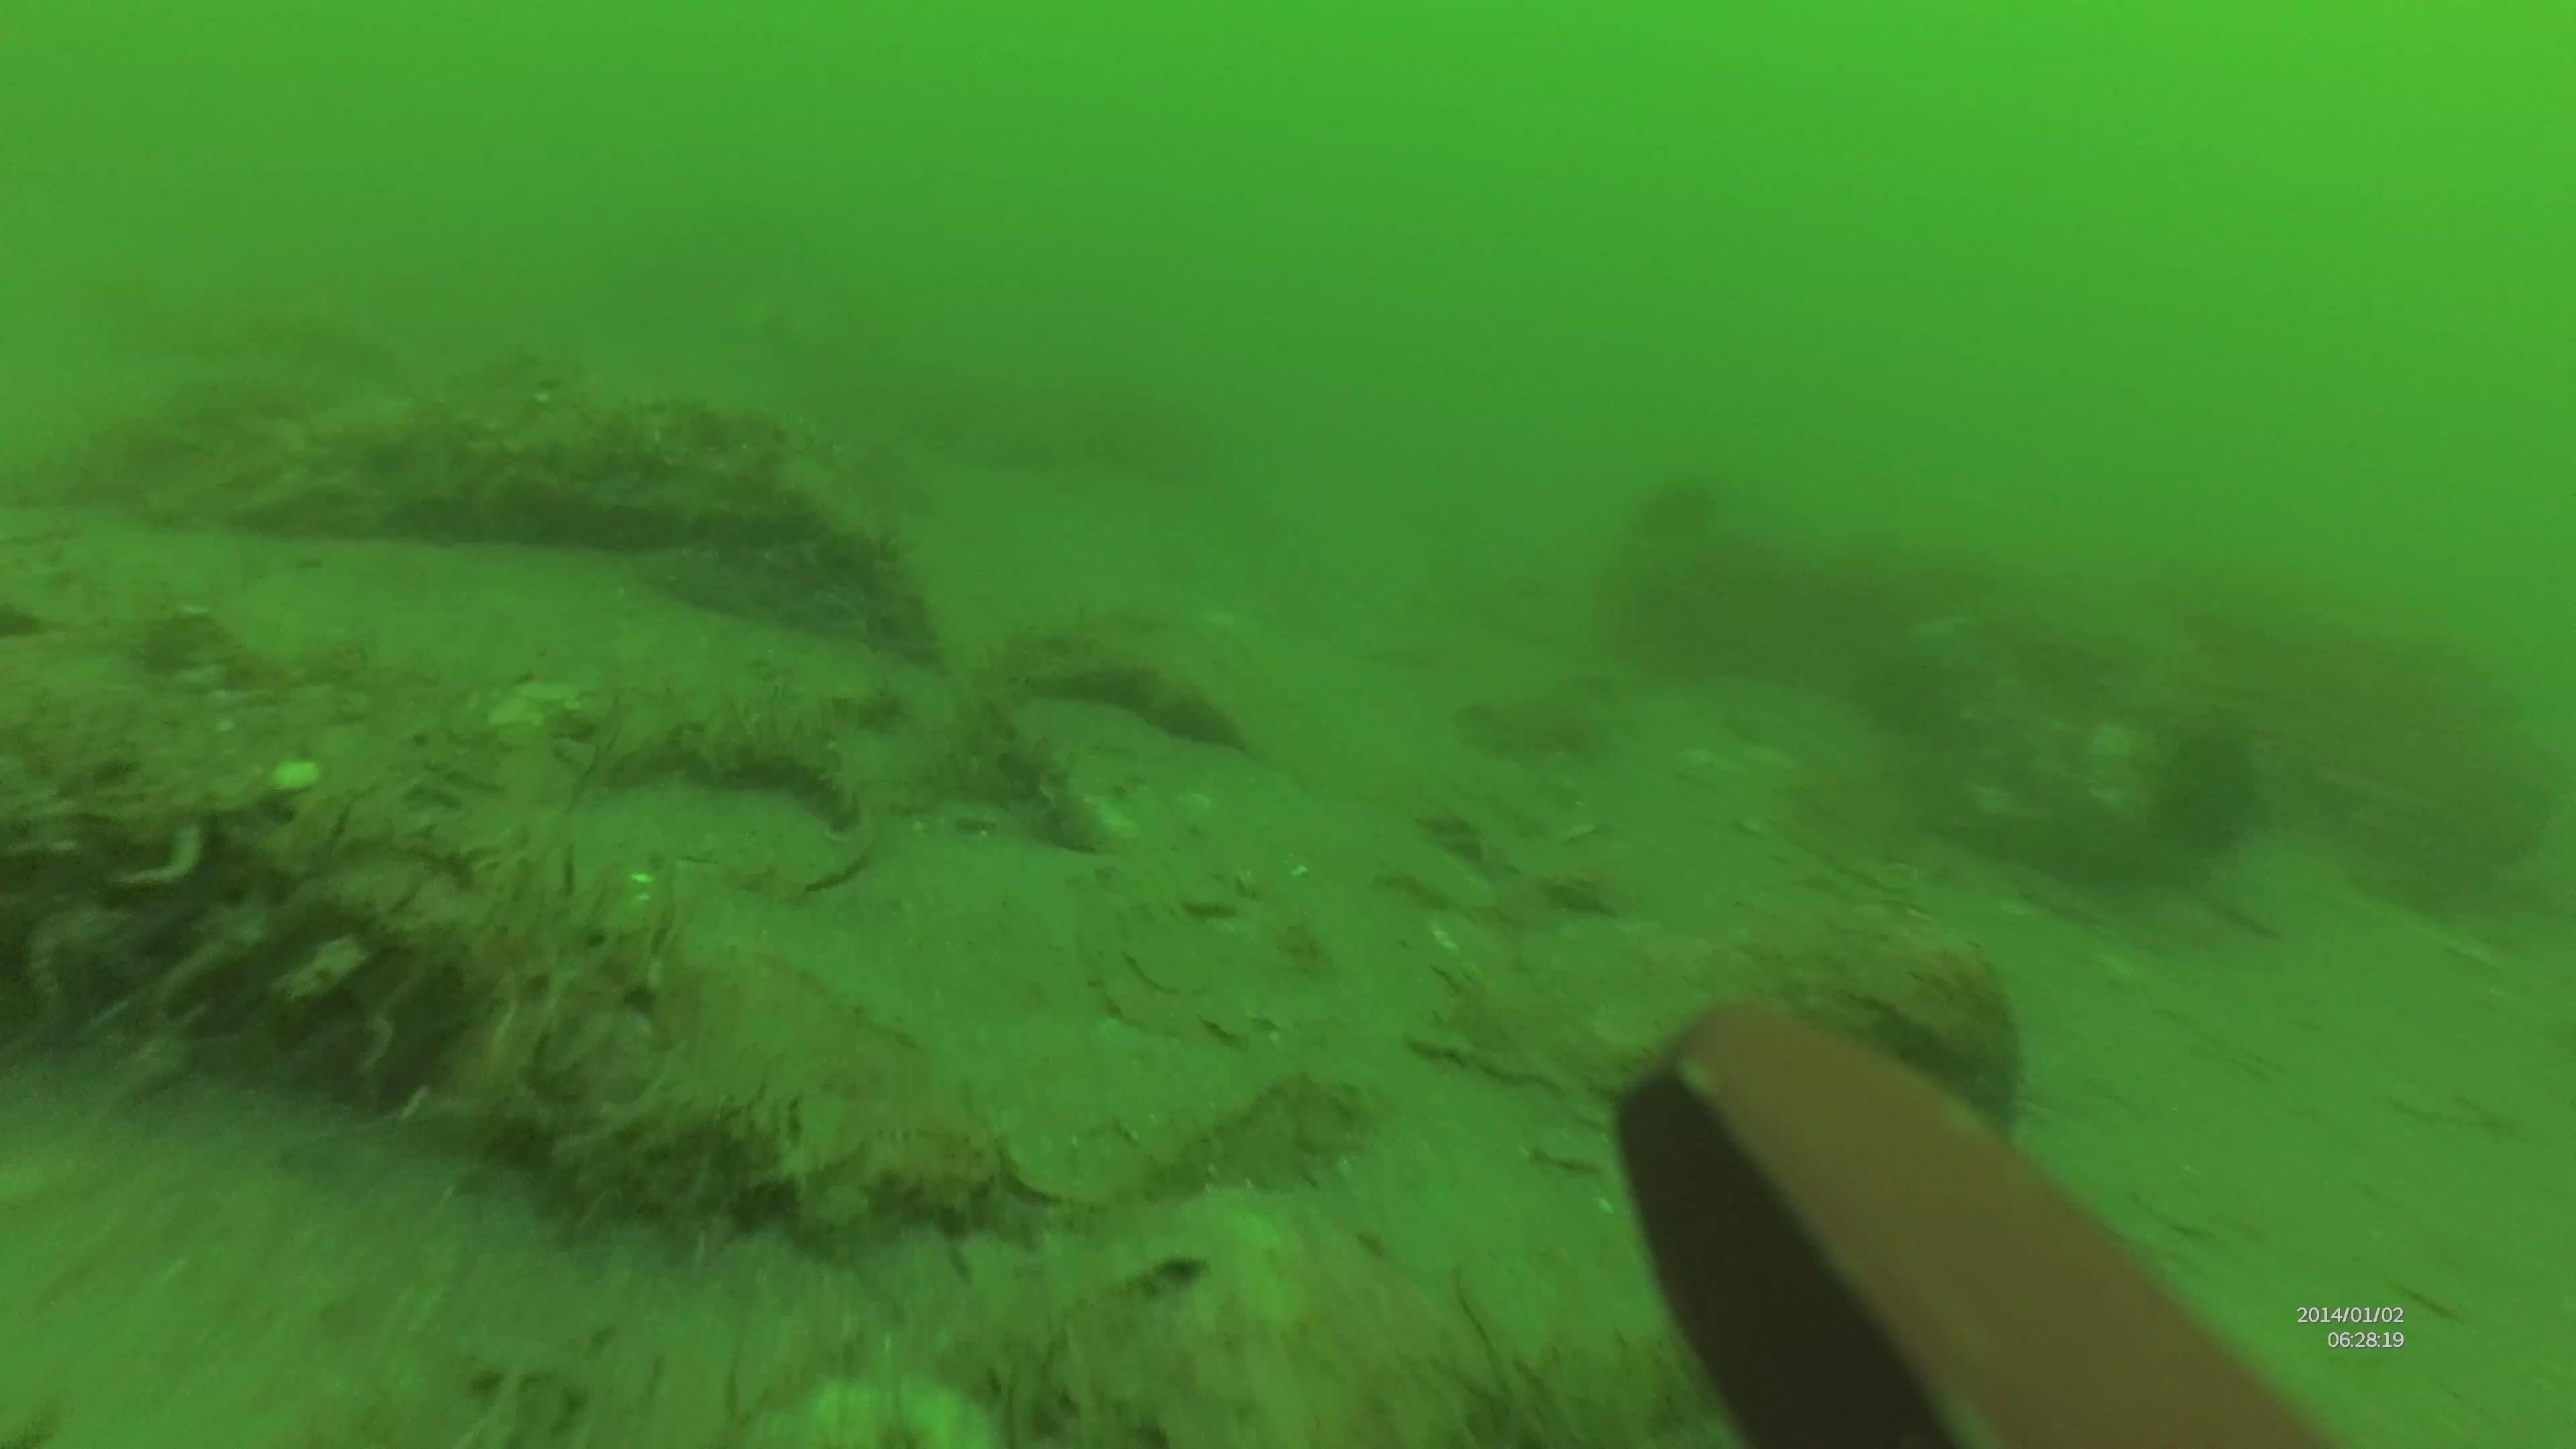echinus: (2153, 720, 2286, 870)
